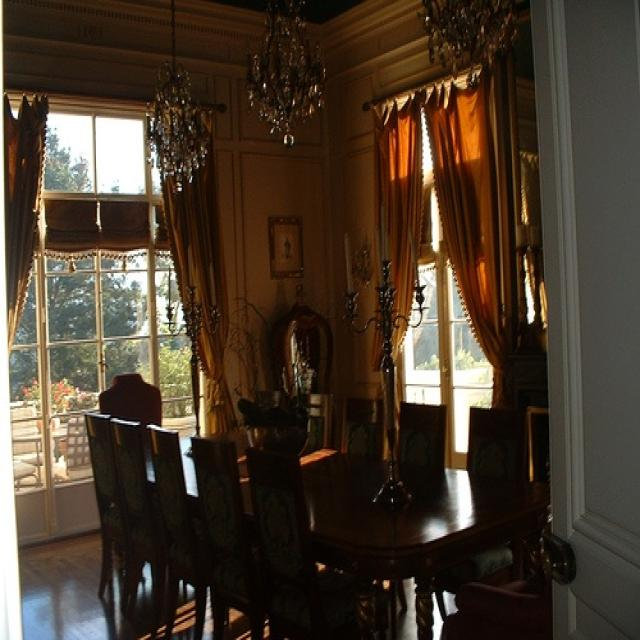chair: (242, 444, 360, 638), (187, 437, 267, 633), (142, 422, 211, 638), (109, 416, 164, 636), (84, 413, 130, 611), (443, 556, 548, 638), (462, 403, 529, 476), (97, 368, 163, 426), (398, 398, 448, 460), (306, 391, 333, 450), (255, 388, 280, 410)
diningtable: (145, 437, 549, 638)
